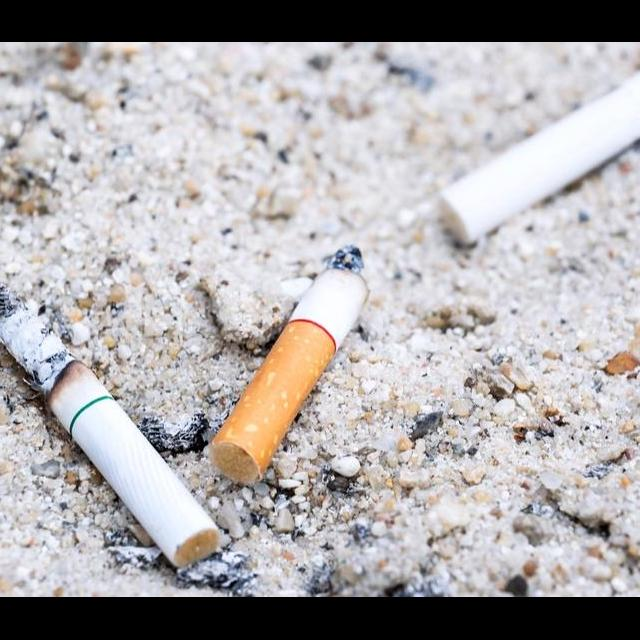Cigarette Butt: (0, 277, 222, 570), (436, 42, 640, 249), (206, 243, 370, 487)
